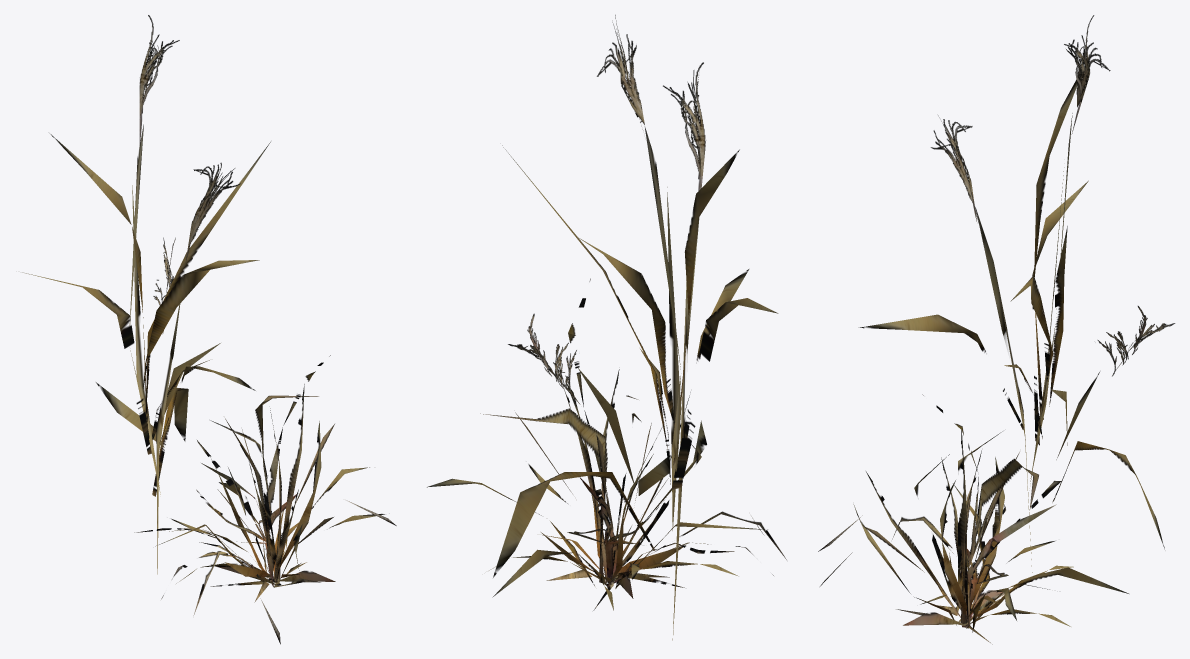
The model's file is savanna-ph-compact.glb.
3 views of the same model, side by side, from view 1: azimuth 30°, elevation 25°; view 2: azimuth 150°, elevation 25°; view 3: azimuth 270°, elevation 25° (orthographic). The views are drawn at different scales.
Visible parts, largest first — view 1: savanna-ph-compact; view 2: savanna-ph-compact; view 3: savanna-ph-compact.
Part boxes in pixels (x1,y1,x2,y2): savanna-ph-compact: [22, 15, 396, 644]; savanna-ph-compact: [427, 15, 786, 640]; savanna-ph-compact: [818, 15, 1175, 644].
Size of the model in its own units: 0.2035 by 0.3216 by 0.1785.
1 material, 1 textured.
